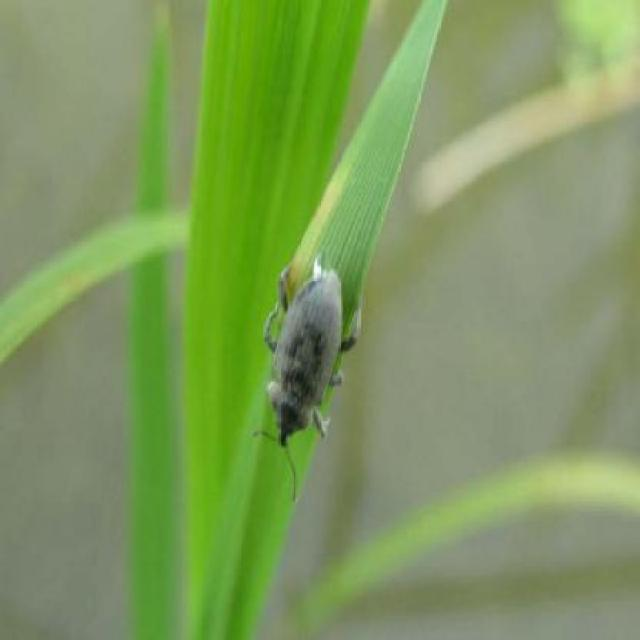rice-bug: (252, 253, 372, 464)
